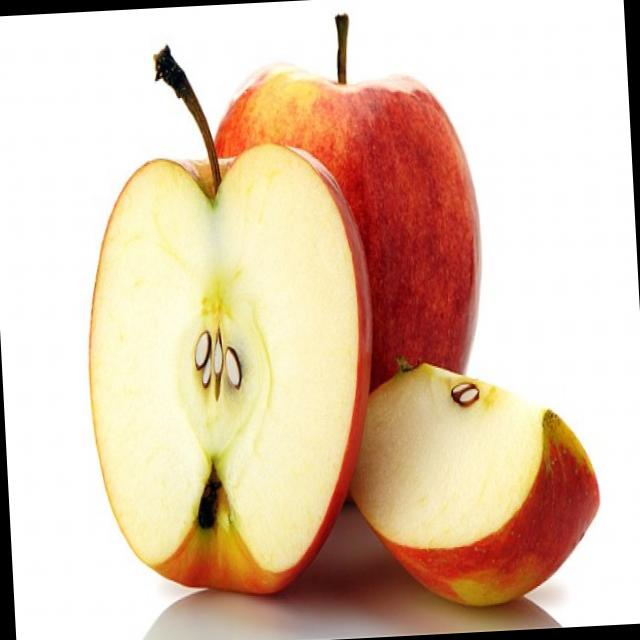apple: (195, 51, 494, 523)
